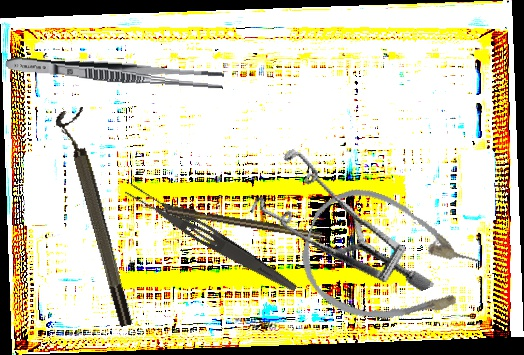Cannula: (289, 176, 489, 347)
Dressing Forceps: (121, 179, 303, 296), (5, 53, 225, 91)
Fixation Ring: (53, 106, 137, 331)
Hook Surgical: (140, 200, 323, 241)
Speculum: (234, 118, 436, 340)
